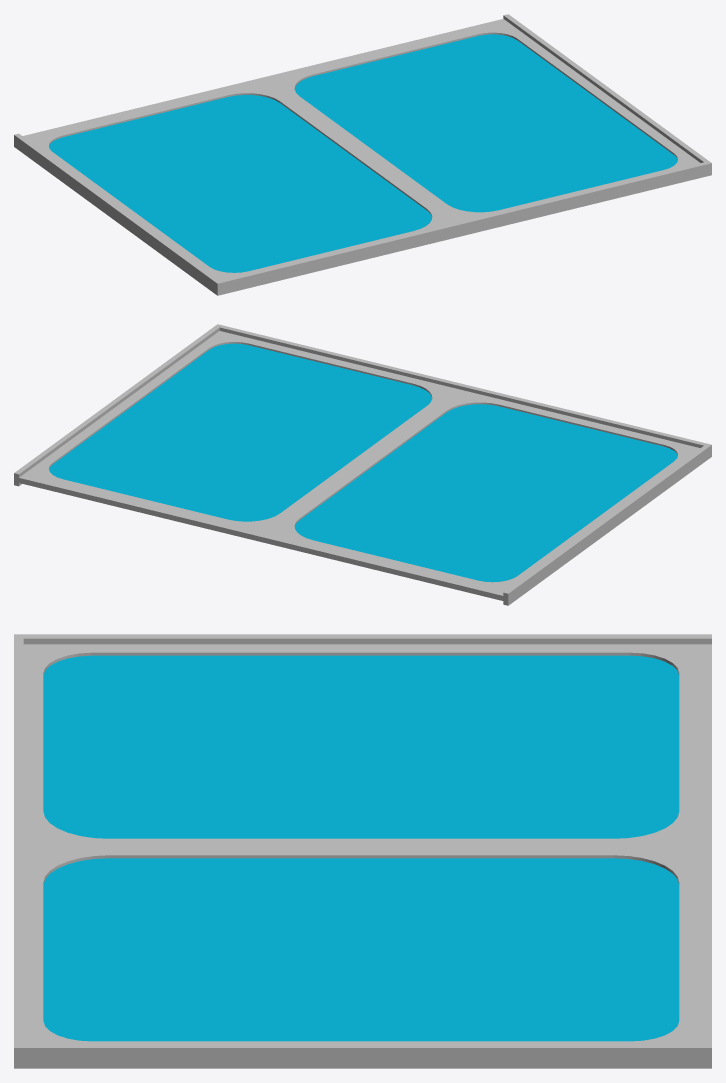
3 views of the same model, one above another, from view 1: azimuth 30°, elevation 25°; view 2: azimuth 150°, elevation 25°; view 3: azimuth 270°, elevation 25° (orthographic). The views are drawn at different scales.
Visible parts, largest first — view 1: 0_3_1_1_2_1_3_2; view 2: 0_3_1_1_2_1_3_2; view 3: 0_3_1_1_2_1_3_2.
Boxes of the visible parts, bbox=[...] form: 0_3_1_1_2_1_3_2: bbox=[14, 14, 711, 295]; 0_3_1_1_2_1_3_2: bbox=[14, 324, 711, 605]; 0_3_1_1_2_1_3_2: bbox=[14, 634, 711, 1068].
Bounding box in the file's own units: 3 × 0.07 × 2.14.
